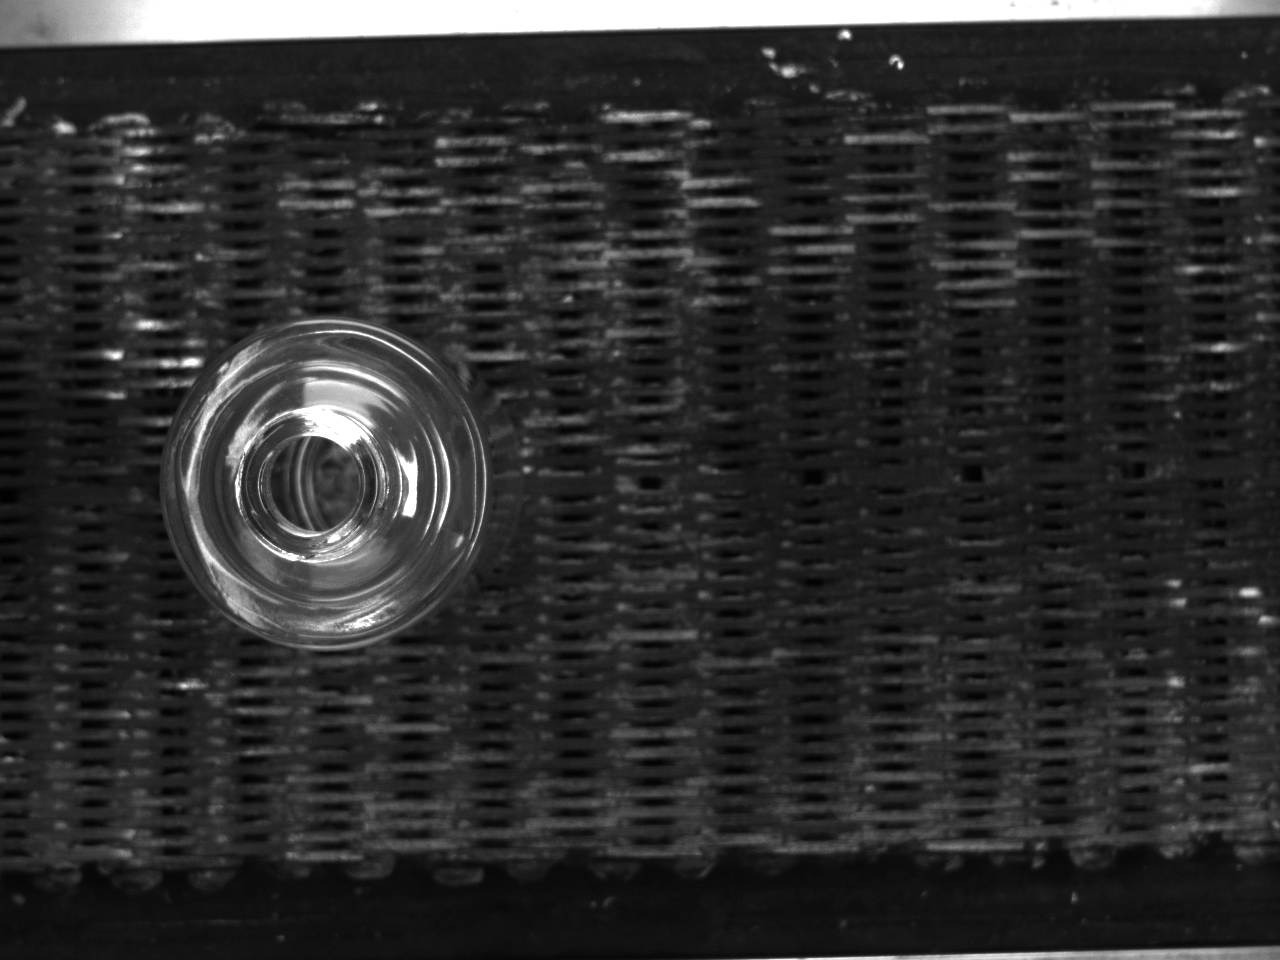bottleneck: (237, 405, 392, 557)
